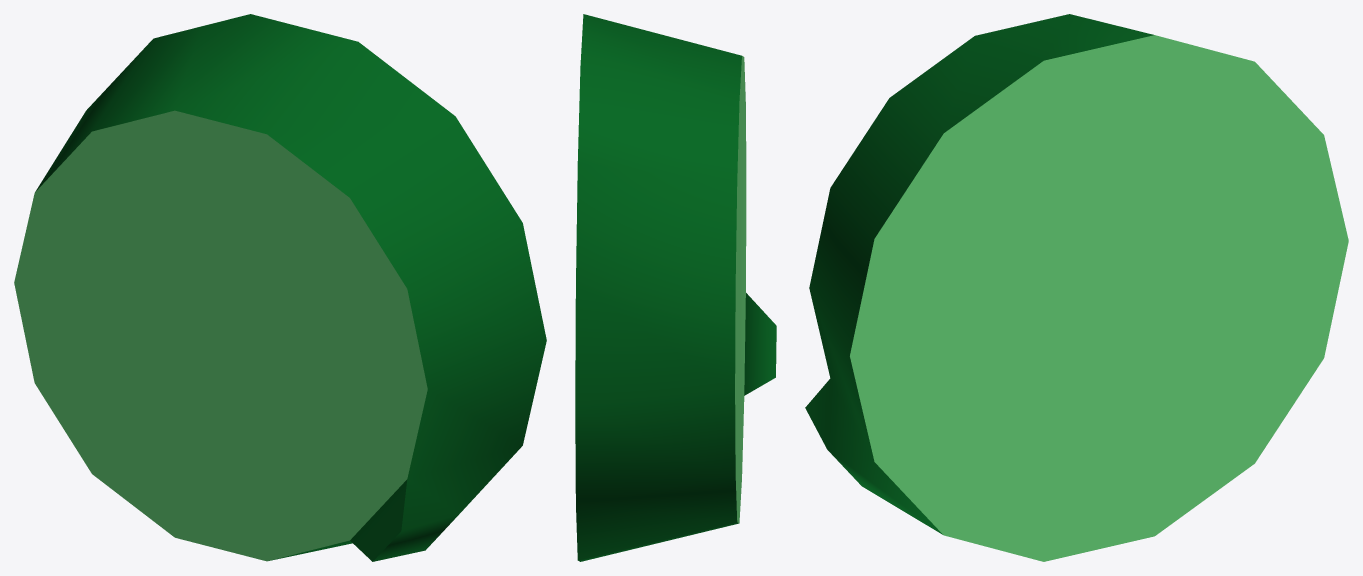
Rendered from mesh_PickleSlice_Stage04.fbx.
3 renders of one model, left to right at view 1: azimuth 30°, elevation 25°; view 2: azimuth 150°, elevation 25°; view 3: azimuth 270°, elevation 25°, orthographic.
Visible parts, largest first — view 1: mesh_PickleSlice_Stage04; view 2: mesh_PickleSlice_Stage04; view 3: mesh_PickleSlice_Stage04.
Part boxes in pixels (bbox=[...]): mesh_PickleSlice_Stage04: bbox=[14, 14, 546, 561]; mesh_PickleSlice_Stage04: bbox=[575, 14, 776, 561]; mesh_PickleSlice_Stage04: bbox=[805, 14, 1348, 561].
Size of the model in its own units: 0.0231 by 0.0325 by 0.0319.
